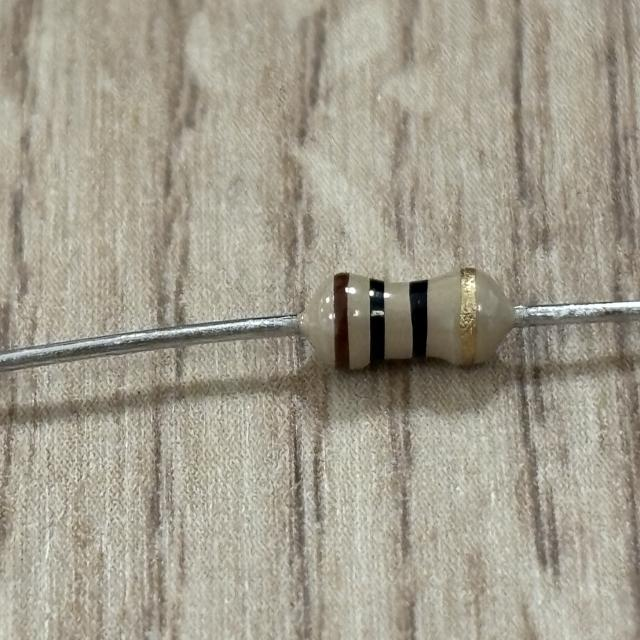resistor: (315, 263, 508, 377)
